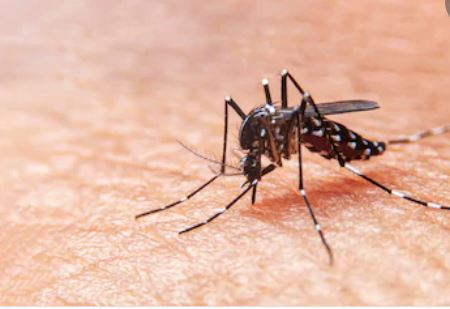dengue_mosquito: (176, 70, 448, 209)
